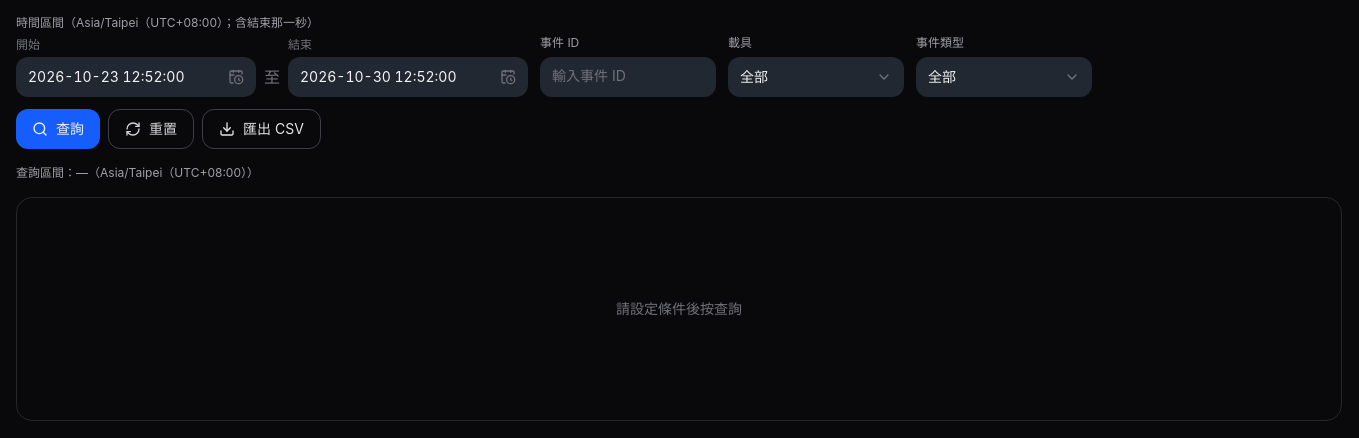
Test case: 歷史事件查詢 › 載入選項後仍保持 idle，只有按查詢才載入事件；重置回 idle 且不重查
This screenshot has width=1359, height=438.
Click the button "查詢".
click(58, 129)  # box [16,109,100,149]
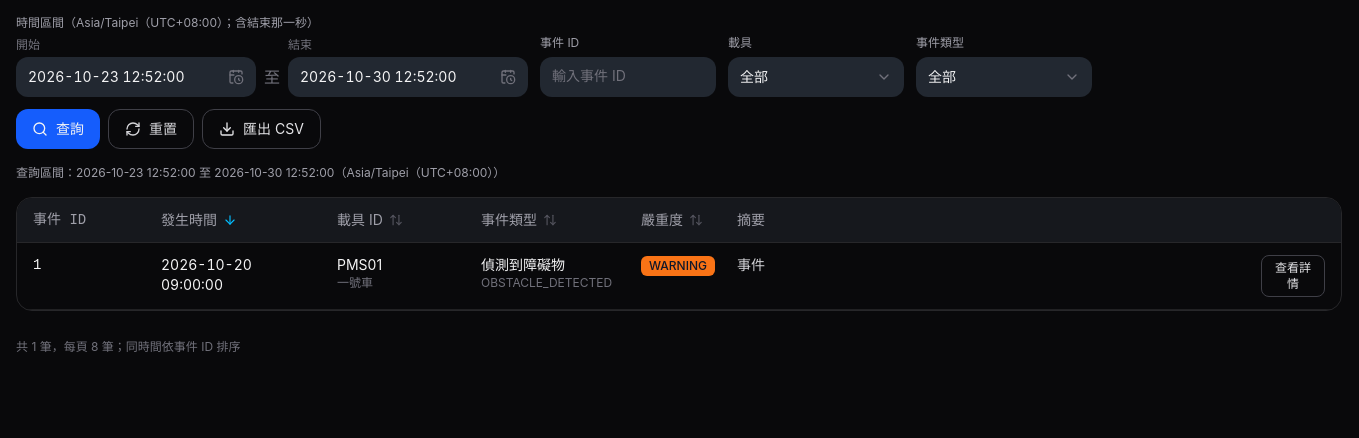
Now the text "2026-10-20 09:00:00" is shown, box [161,256,252,293]
Click the button "重置".
click(151, 129)  # box [108,109,194,149]
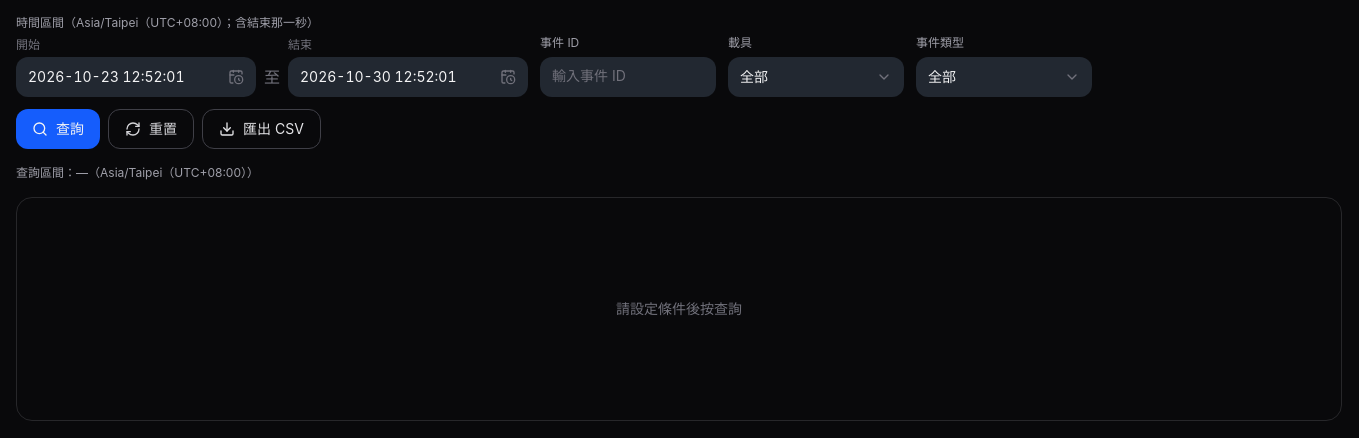
Now the text "請設定條件後按查詢" is shown, box [16,197,1342,421]
